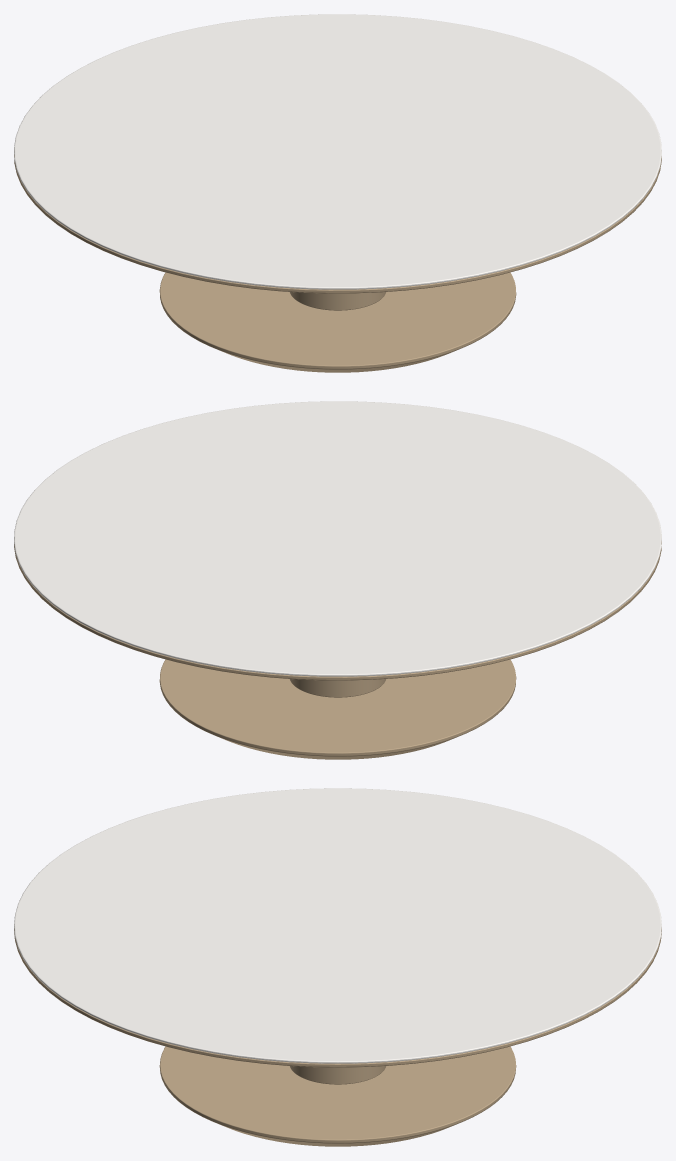
File: orbit_d100h26_proposta.glb
3 views of the same model, one above another, from view 1: azimuth 30°, elevation 25°; view 2: azimuth 150°, elevation 25°; view 3: azimuth 270°, elevation 25° (orthographic).
Parts seen in each view (by area): view 1: Top Orbit Coffee Table 028, Base Orbit Coffee Table 028, Undertop Orbit Coffee Table 028, Base Element Orbit Coffee Table 031; view 2: Top Orbit Coffee Table 028, Base Orbit Coffee Table 028, Undertop Orbit Coffee Table 028, Base Element Orbit Coffee Table 031; view 3: Top Orbit Coffee Table 028, Base Orbit Coffee Table 028, Undertop Orbit Coffee Table 028, Base Element Orbit Coffee Table 031.
Boxes of the visible parts, left/top/right/bottom form: Top Orbit Coffee Table 028: left=14, top=14, right=661, bottom=289; Base Orbit Coffee Table 028: left=159, top=272, right=516, bottom=372; Undertop Orbit Coffee Table 028: left=14, top=154, right=661, bottom=293; Base Element Orbit Coffee Table 031: left=290, top=292, right=385, bottom=310; Top Orbit Coffee Table 028: left=14, top=401, right=661, bottom=676; Base Orbit Coffee Table 028: left=159, top=659, right=516, bottom=759; Undertop Orbit Coffee Table 028: left=14, top=541, right=661, bottom=680; Base Element Orbit Coffee Table 031: left=290, top=679, right=385, bottom=697; Top Orbit Coffee Table 028: left=14, top=788, right=661, bottom=1063; Base Orbit Coffee Table 028: left=159, top=1046, right=516, bottom=1146; Undertop Orbit Coffee Table 028: left=14, top=928, right=661, bottom=1067; Base Element Orbit Coffee Table 031: left=290, top=1066, right=385, bottom=1084.
Bounding box in the file's own units: 1 × 0.264 × 1.
